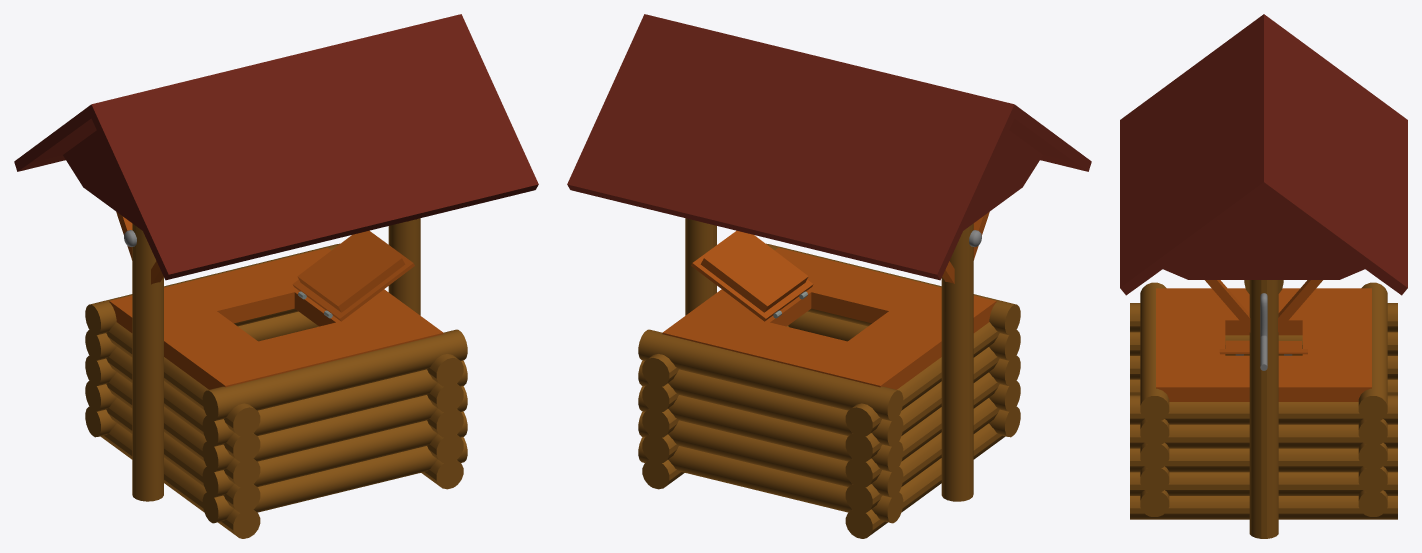
Rendered from колодец1.1.2.fbx.
3 views of the same model, side by side, from view 1: azimuth 30°, elevation 25°; view 2: azimuth 150°, elevation 25°; view 3: azimuth 270°, elevation 25° (orthographic). The views are drawn at different scales.
Visible parts, largest first — view 1: Cube.001, Cylinder.001, Cube; view 2: Cube.001, Cylinder.001, Cube; view 3: Cube.001, Cylinder.001, Cube, BezierCurve.
Boxes of the visible parts, bbox=[...] form: Cube.001: bbox=[14, 14, 538, 280]; Cylinder.001: bbox=[85, 218, 467, 538]; Cube: bbox=[109, 212, 443, 389]; Cube.001: bbox=[567, 14, 1091, 280]; Cylinder.001: bbox=[638, 218, 1020, 538]; Cube: bbox=[662, 212, 996, 389]; Cube.001: bbox=[1120, 14, 1407, 295]; Cylinder.001: bbox=[1130, 280, 1397, 538]; Cube: bbox=[1156, 280, 1371, 401]; BezierCurve: bbox=[1260, 293, 1267, 370].
Size of the model in its own units: 117 by 112 by 77.69.
